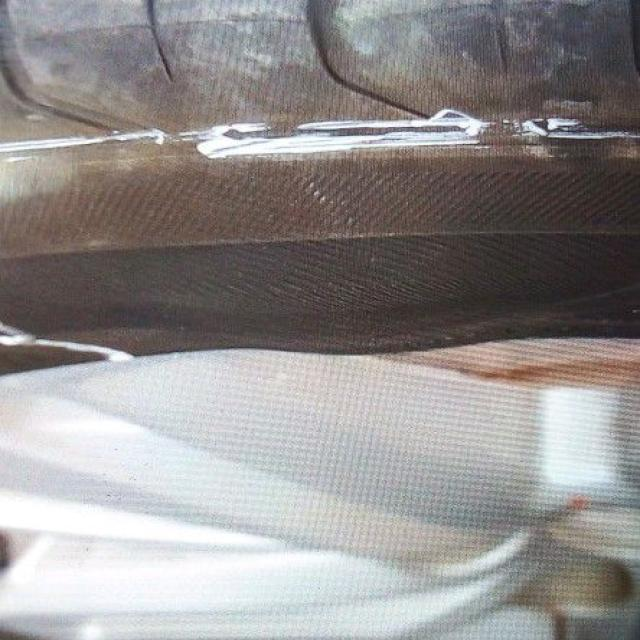Bulge: (152, 230, 576, 382)
